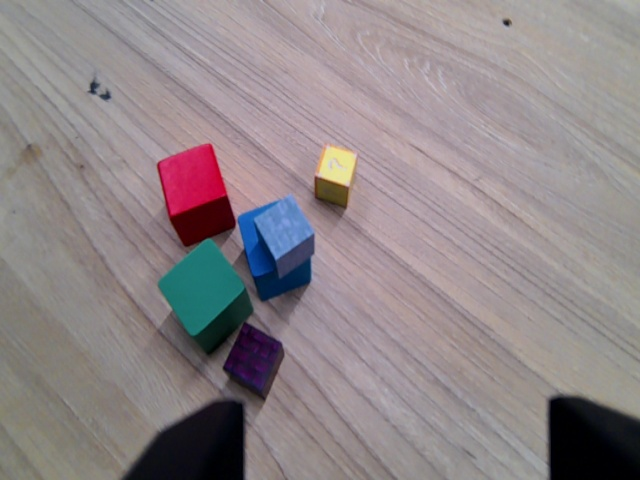brick: (218, 316, 286, 407)
lucky: (308, 143, 366, 211)
stone: (251, 193, 316, 281)
